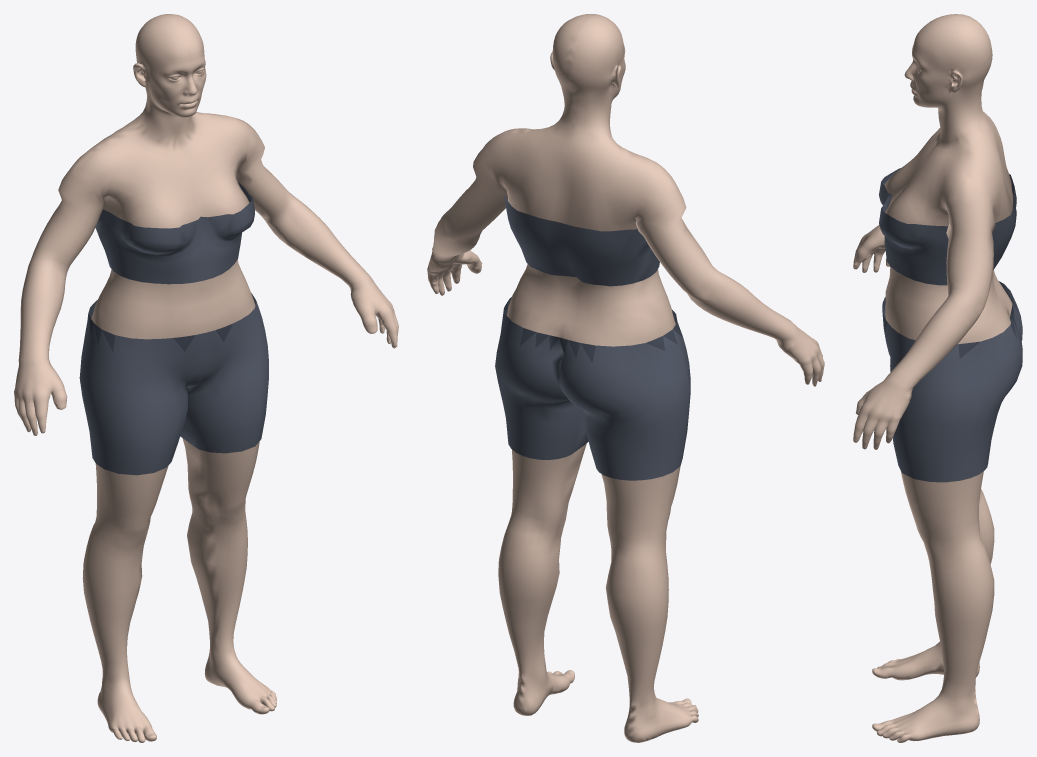
The model's file is mannequin_female.glb.
3 views of the same model, side by side, from view 1: azimuth 30°, elevation 25°; view 2: azimuth 150°, elevation 25°; view 3: azimuth 270°, elevation 25° (orthographic). The views are drawn at different scales.
Parts seen in each view (by area): view 1: mannequin_female; view 2: mannequin_female; view 3: mannequin_female.
Boxes of the visible parts, <box> form: mannequin_female: <box>14,14,398,742</box>; mannequin_female: <box>427,14,824,742</box>; mannequin_female: <box>853,14,1022,742</box>.
Bounding box in the file's own units: 0.1336 × 0.2329 × 0.0519.
